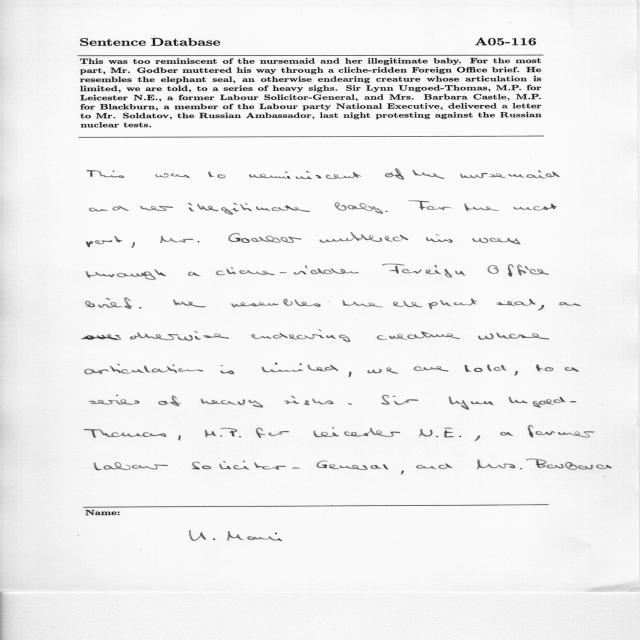word: (192, 460, 380, 468), (188, 203, 310, 215), (216, 266, 359, 276), (85, 364, 204, 374), (252, 330, 351, 342), (382, 264, 465, 277), (319, 232, 409, 243), (130, 331, 229, 341), (393, 298, 477, 309), (249, 171, 361, 179), (86, 269, 166, 280), (314, 427, 400, 437), (528, 425, 594, 438), (231, 299, 321, 308), (487, 264, 549, 277), (460, 171, 560, 179), (509, 397, 577, 408), (377, 331, 460, 340), (84, 429, 167, 438), (228, 233, 302, 243), (262, 363, 338, 372), (205, 427, 266, 438), (478, 459, 547, 468), (449, 397, 494, 410), (335, 202, 383, 214), (86, 298, 133, 309), (89, 395, 140, 405), (284, 396, 334, 406), (478, 333, 549, 340), (201, 399, 263, 407), (94, 462, 168, 468), (419, 428, 461, 438), (86, 236, 123, 247), (409, 201, 452, 210), (547, 462, 611, 468), (382, 395, 418, 405), (513, 204, 557, 211), (87, 170, 124, 178), (472, 238, 521, 244), (465, 365, 507, 372), (412, 170, 444, 179), (464, 203, 500, 211), (342, 301, 383, 308), (160, 236, 200, 243), (497, 299, 536, 306), (173, 300, 206, 308), (158, 396, 181, 407), (426, 234, 453, 243), (90, 206, 130, 212), (82, 334, 121, 340), (368, 367, 399, 374), (414, 366, 449, 372), (385, 169, 404, 180), (416, 463, 453, 468), (155, 173, 190, 178), (140, 206, 173, 211), (208, 172, 225, 179), (536, 365, 553, 372), (221, 365, 234, 374), (269, 431, 290, 436), (559, 302, 581, 306), (565, 367, 579, 372), (188, 272, 201, 276), (500, 432, 513, 436), (538, 305, 544, 311), (475, 436, 480, 441), (131, 242, 135, 248), (514, 371, 518, 376), (178, 435, 181, 441), (383, 464, 387, 468), (349, 372, 352, 377), (348, 403, 352, 405), (385, 211, 388, 212), (139, 307, 142, 308)
